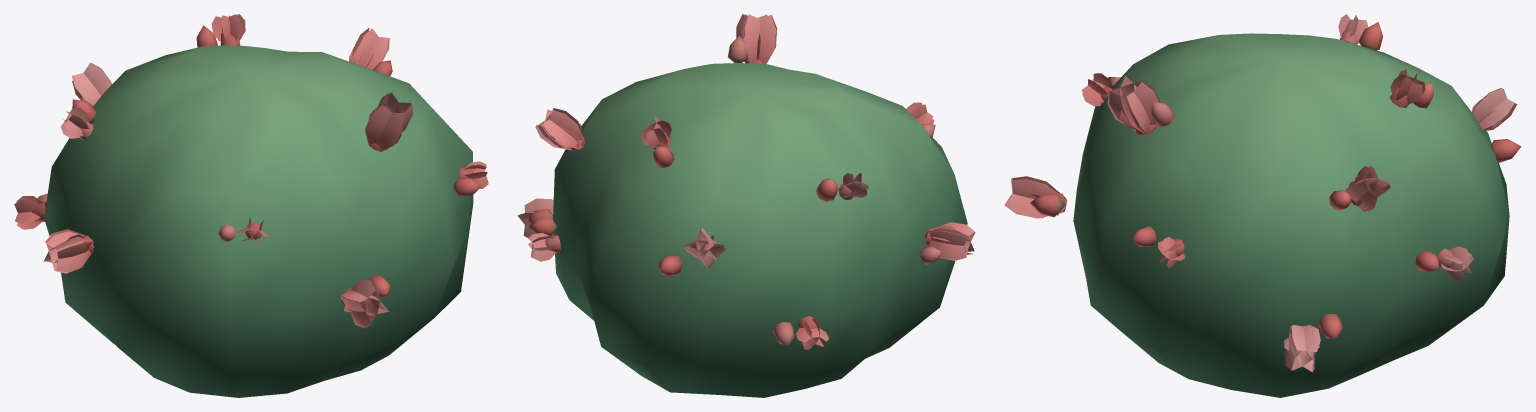
The model's file is rose_coral.glb.
The picture shows the model from 3 angles, left to right: view 1: azimuth 30°, elevation 25°; view 2: azimuth 150°, elevation 25°; view 3: azimuth 270°, elevation 25°; orthographic projection. The views are drawn at different scales.
Visible parts, largest first — view 1: rose_coral; view 2: rose_coral; view 3: rose_coral.
Boxes of the visible parts, x1=… form: rose_coral: x1=14, y1=14, x2=488, y2=397; rose_coral: x1=517, y1=14, x2=975, y2=397; rose_coral: x1=1004, y1=14, x2=1521, y2=397.
Size of what is drawn, in the model's own units: 1.99 by 1.15 by 1.93.
